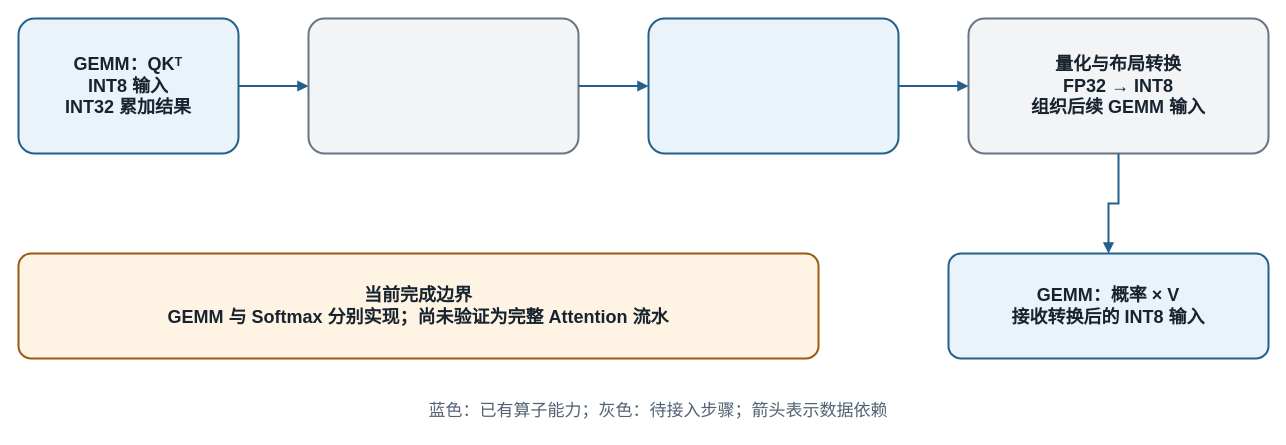
The diagram is 1286 pixels wide and 445 high, and some of its shapes have lost their labels. The centre of each missing label's shape, as x and y in pixels:
"FP32 Softmax 逐行概率归一化 FP32 概率输出" goes at point 773,85.
"缩放、转换与 mask INT32 → FP32 量化比例与 √d" goes at point 443,85.
